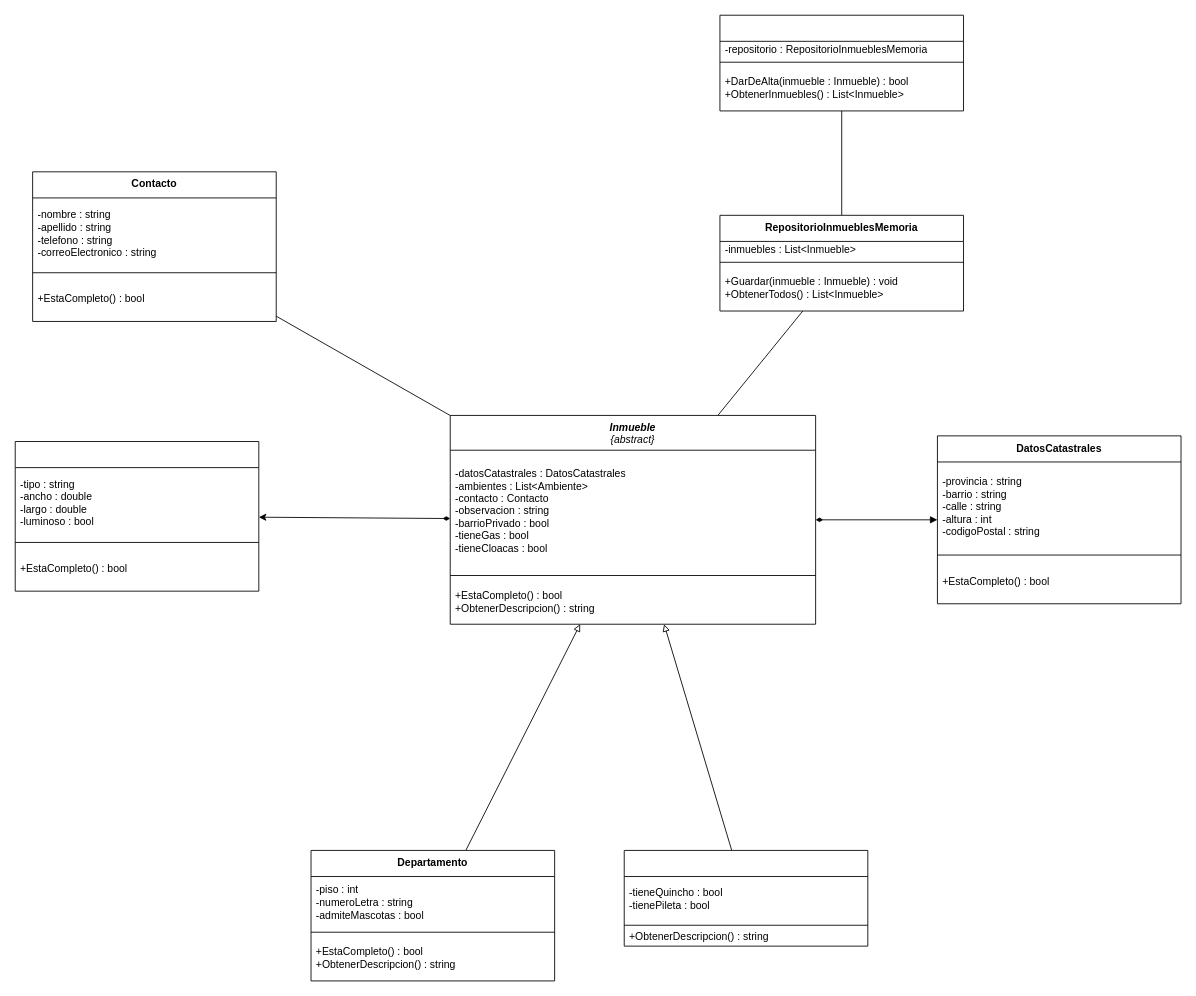
Some shapes in this 1196 by 996 pixel diagram are drawn without their labels. Here are the shapes that lost their labels. From the top down, the box of each, then its label:
(719, 14, 964, 111): GestorInmuebles
(14, 441, 259, 591): Ambiente
(623, 850, 868, 946): Casa
